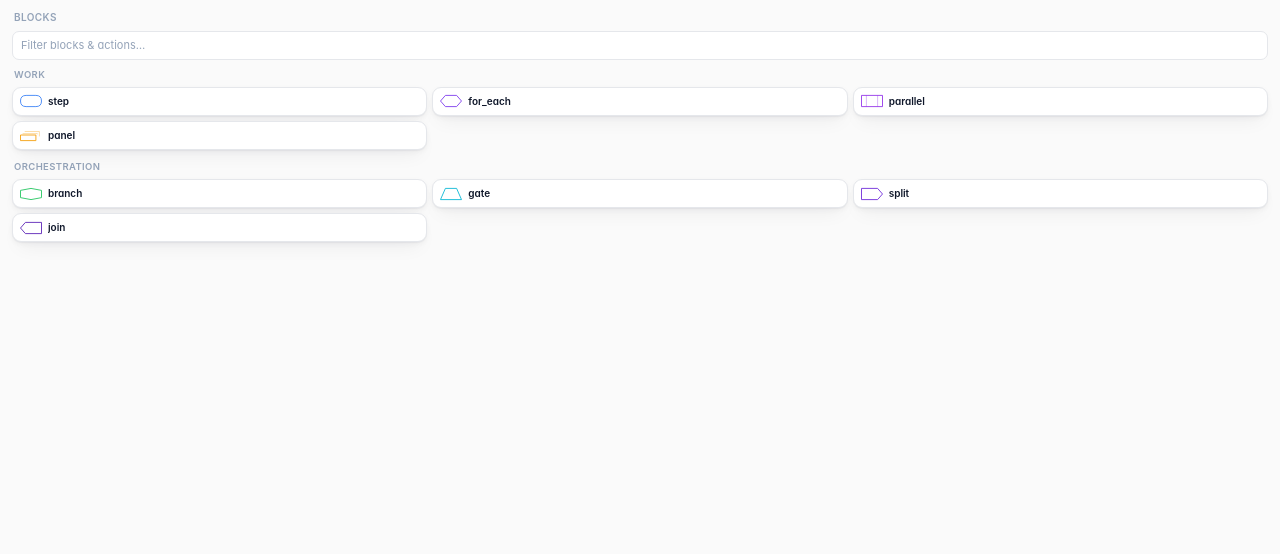
Test: NodePalette › variant="rail" (Task 1: inspector-rail dock) › clicking a rail card SELECTS it (shows a detail card) rather than instantly adding
Step 1. Click the button with aria-label "Add parallel node" → (907, 101), box [853,87,1268,116]
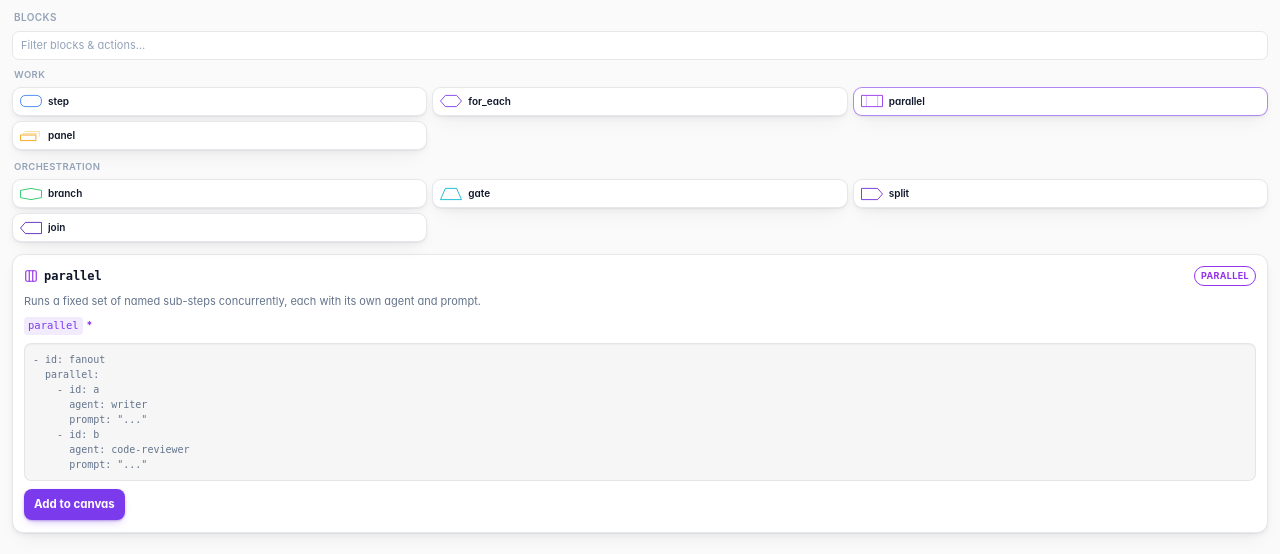
Check: the element named "parallel details" is shown, box [12,254,1268,533]
Check: the button "Add to canvas" is shown, box [24,489,125,520]
